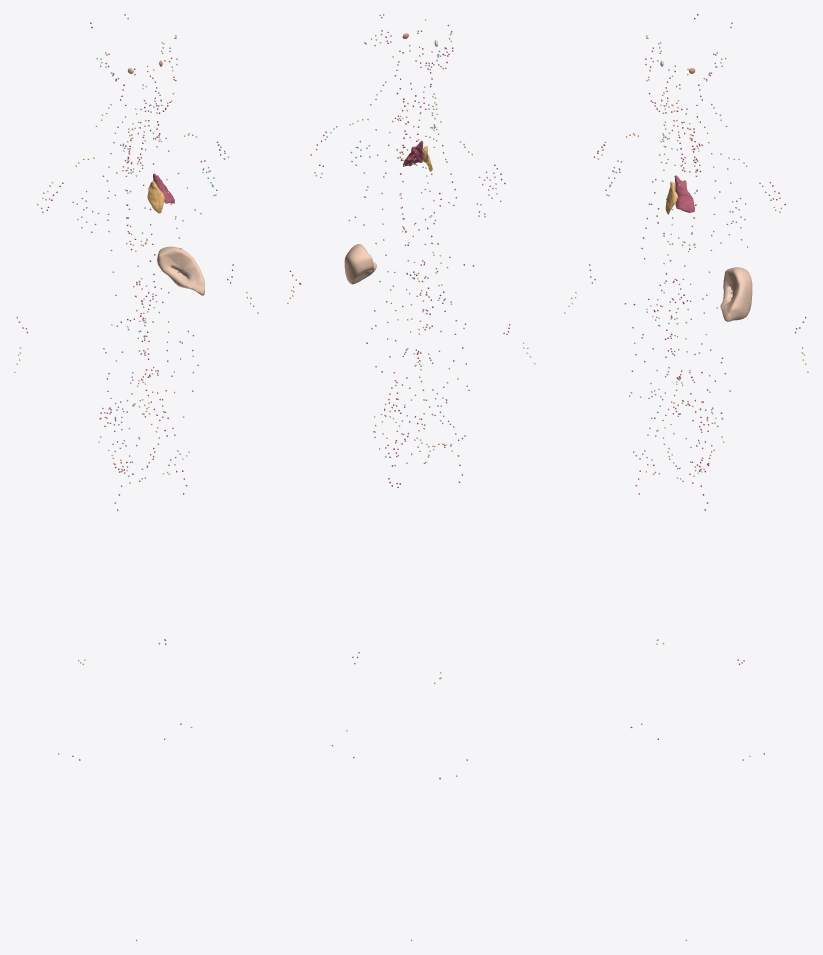
File: z-anatomy-lymphoid-organs.glb
3 renders of one model, left to right at view 1: azimuth 30°, elevation 25°; view 2: azimuth 150°, elevation 25°; view 3: azimuth 330°, elevation 25°, orthographic.
Visible parts, largest first — view 1: Spleen; view 2: Spleen; view 3: Spleen.
Boxes of the visible parts, x1=… form: Spleen: x1=157, y1=246, x2=204, y2=295; Spleen: x1=344, y1=244, x2=376, y2=284; Spleen: x1=720, y1=267, x2=752, y2=321.
Bounding box in the file's own units: 45.23 × 159 × 19.63.
